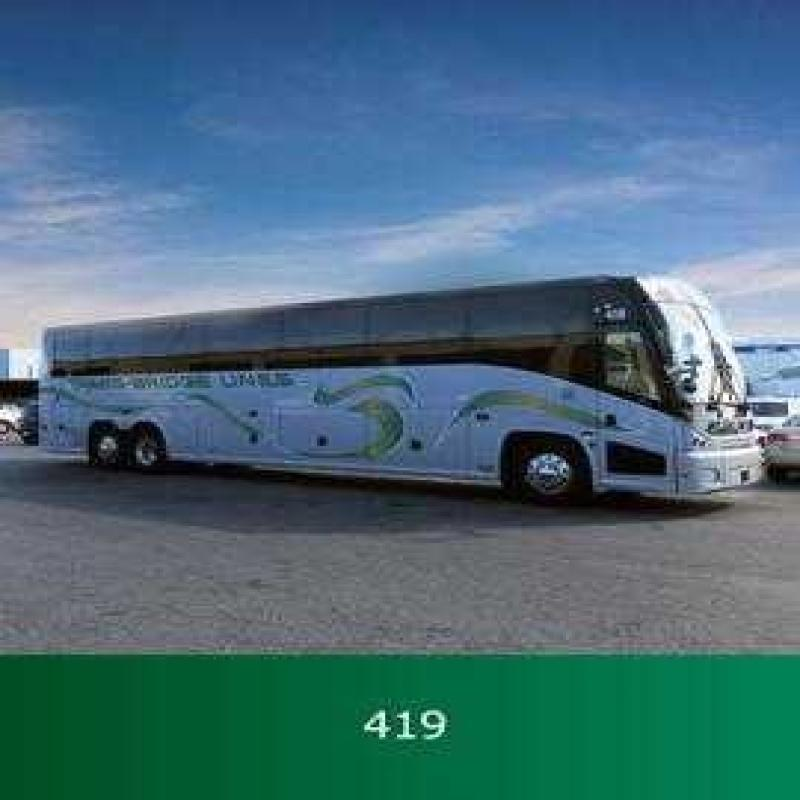bus: (32, 254, 800, 518)
